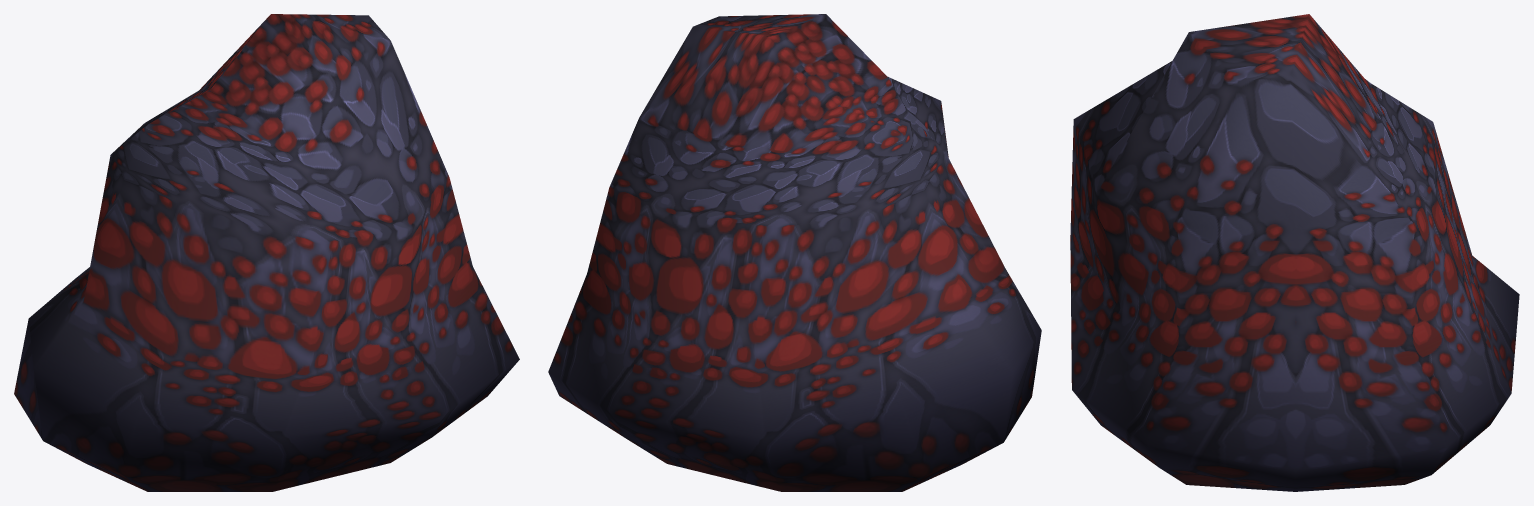
Rendered from Rock_03d.FBX.
The picture shows the model from 3 angles, left to right: view 1: azimuth 30°, elevation 25°; view 2: azimuth 150°, elevation 25°; view 3: azimuth 270°, elevation 25°; orthographic projection. The views are drawn at different scales.
Parts seen in each view (by area): view 1: Rock_03d; view 2: Rock_03d; view 3: Rock_03d.
Part boxes in pixels (box(x1,y1,x2,y2)): Rock_03d: box(14, 14, 519, 491); Rock_03d: box(548, 14, 1041, 491); Rock_03d: box(1070, 14, 1519, 491).
Bounding box in the file's own units: 145 × 124 × 121.
